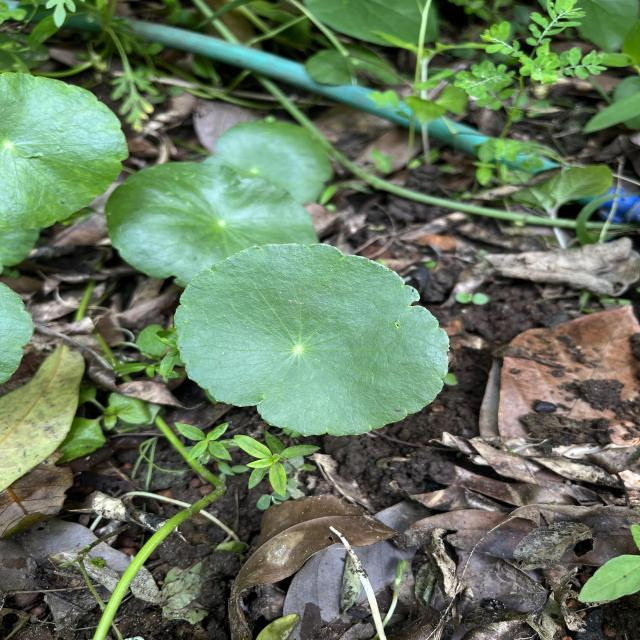Bacopa monnieri: (171, 241, 453, 439), (102, 159, 322, 290), (0, 70, 131, 233)
